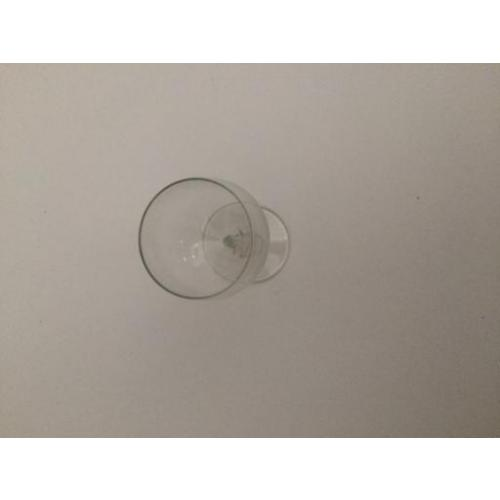glass: (139, 177, 289, 299)
